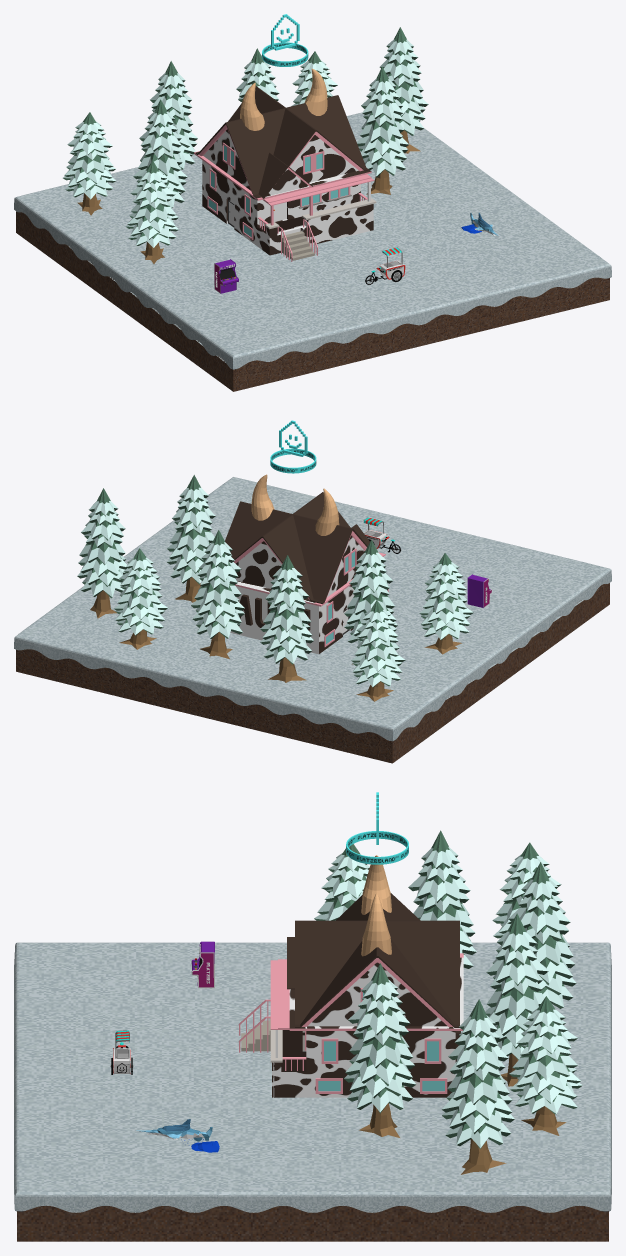
3 renders of one model, top to bottom at view 1: azimuth 30°, elevation 25°; view 2: azimuth 150°, elevation 25°; view 3: azimuth 270°, elevation 25°, orthographic. The views are drawn at different scales.
Visible parts, largest first — view 1: Cube.003, Cube.1242, TYPE_PREMIUM, OBJRANDOM_ARCADE, VEHICLES_SNOWBAL_BIKE; view 2: Cube.003, Cube.1242, TYPE_PREMIUM, OBJRANDOM_ARCADE, VEHICLES_SNOWBAL_BIKE; view 3: Cube.003, Cube.1242, TYPE_PREMIUM, ANIMAL_PEZ_ESPADA, OBJRANDOM_ARCADE, VEHICLES_SNOWBAL_BIKE.
Part boxes in pixels (x1,y1,x2,y2): Cube.003: (14, 27, 611, 391); Cube.1242: (194, 68, 376, 261); TYPE_PREMIUM: (262, 14, 308, 66); OBJRANDOM_ARCADE: (214, 259, 238, 293); VEHICLES_SNOWBAL_BIKE: (365, 247, 405, 284); Cube.003: (14, 475, 611, 763); Cube.1242: (225, 474, 388, 654); TYPE_PREMIUM: (270, 420, 316, 473); OBJRANDOM_ARCADE: (467, 574, 491, 607); VEHICLES_SNOWBAL_BIKE: (363, 517, 400, 553); Cube.003: (14, 830, 611, 1241); Cube.1242: (238, 855, 463, 1097); TYPE_PREMIUM: (346, 792, 408, 864); ANIMAL_PEZ_ESPADA: (136, 1119, 219, 1152); OBJRANDOM_ARCADE: (191, 941, 214, 988); VEHICLES_SNOWBAL_BIKE: (110, 1030, 133, 1074).
Size of the model in its own units: 4040 by 2475 by 4040.
Materials: 43 (4 with a texture image).
